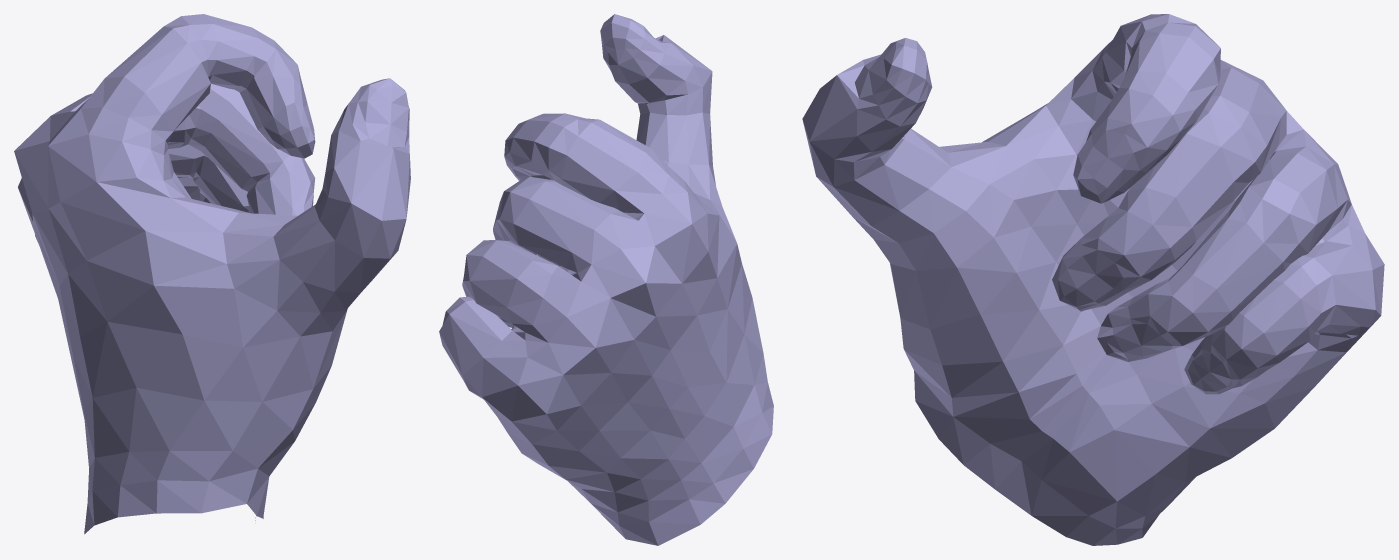
The model's file is frame_0007_source_000007_hand.glb.
3 views of the same model, side by side, from view 1: azimuth 30°, elevation 25°; view 2: azimuth 150°, elevation 25°; view 3: azimuth 270°, elevation 25° (orthographic). The views are drawn at different scales.
Parts seen in each view (by area): view 1: world; view 2: world; view 3: world.
Part boxes in pixels (x1,y1,x2,y2): world: [14, 14, 410, 534]; world: [439, 14, 773, 545]; world: [802, 14, 1384, 545].
Bounding box in the file's own units: 0.064 × 0.1193 × 0.1129.
